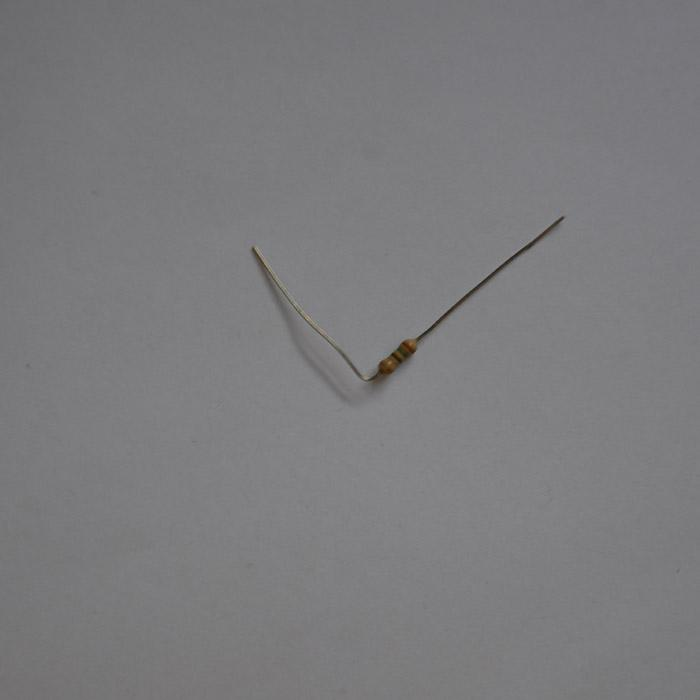resistor: (379, 337, 417, 374)
